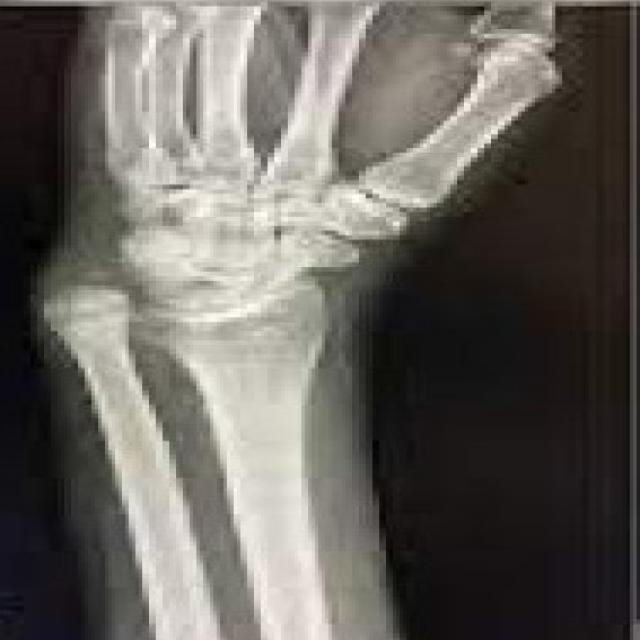Fracture: (29, 192, 456, 376)
